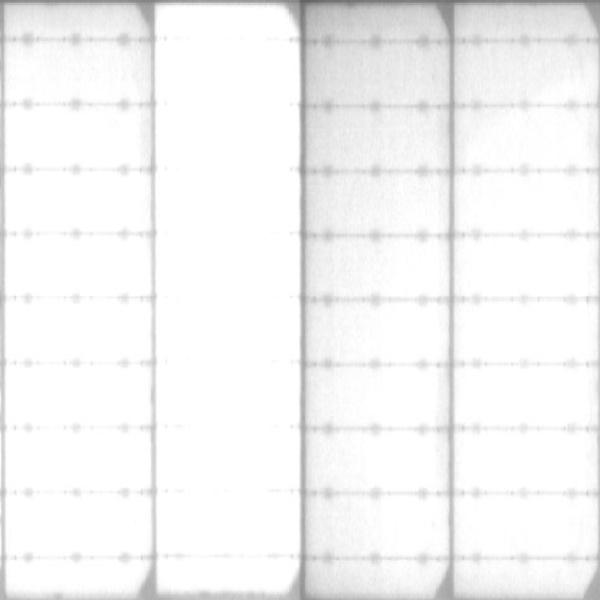hot_spot: (159, 13, 290, 592), (12, 368, 145, 422), (11, 303, 144, 354), (14, 435, 147, 486), (462, 434, 587, 487), (8, 177, 137, 228), (11, 241, 142, 290), (16, 499, 145, 548), (7, 114, 137, 162), (465, 370, 583, 420), (466, 503, 588, 550), (470, 309, 585, 356), (478, 180, 592, 226), (326, 377, 439, 420), (476, 247, 590, 288), (328, 444, 436, 485), (335, 511, 444, 550)
